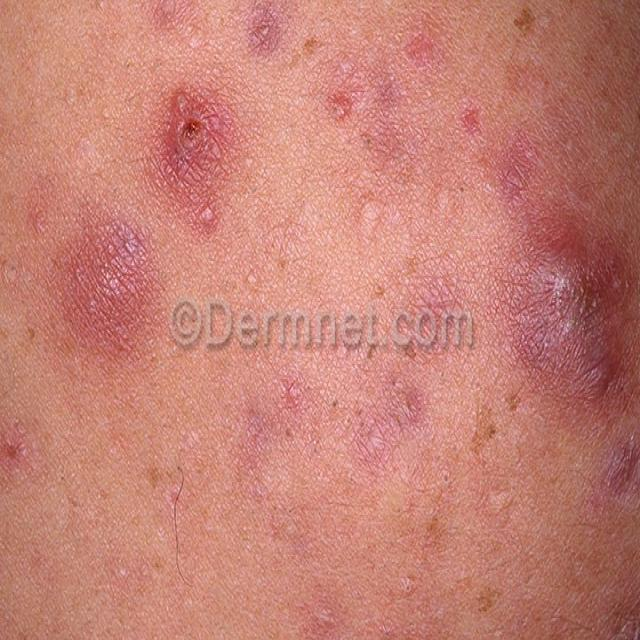acne: (146, 63, 241, 204), (70, 191, 146, 329), (316, 80, 368, 146)
